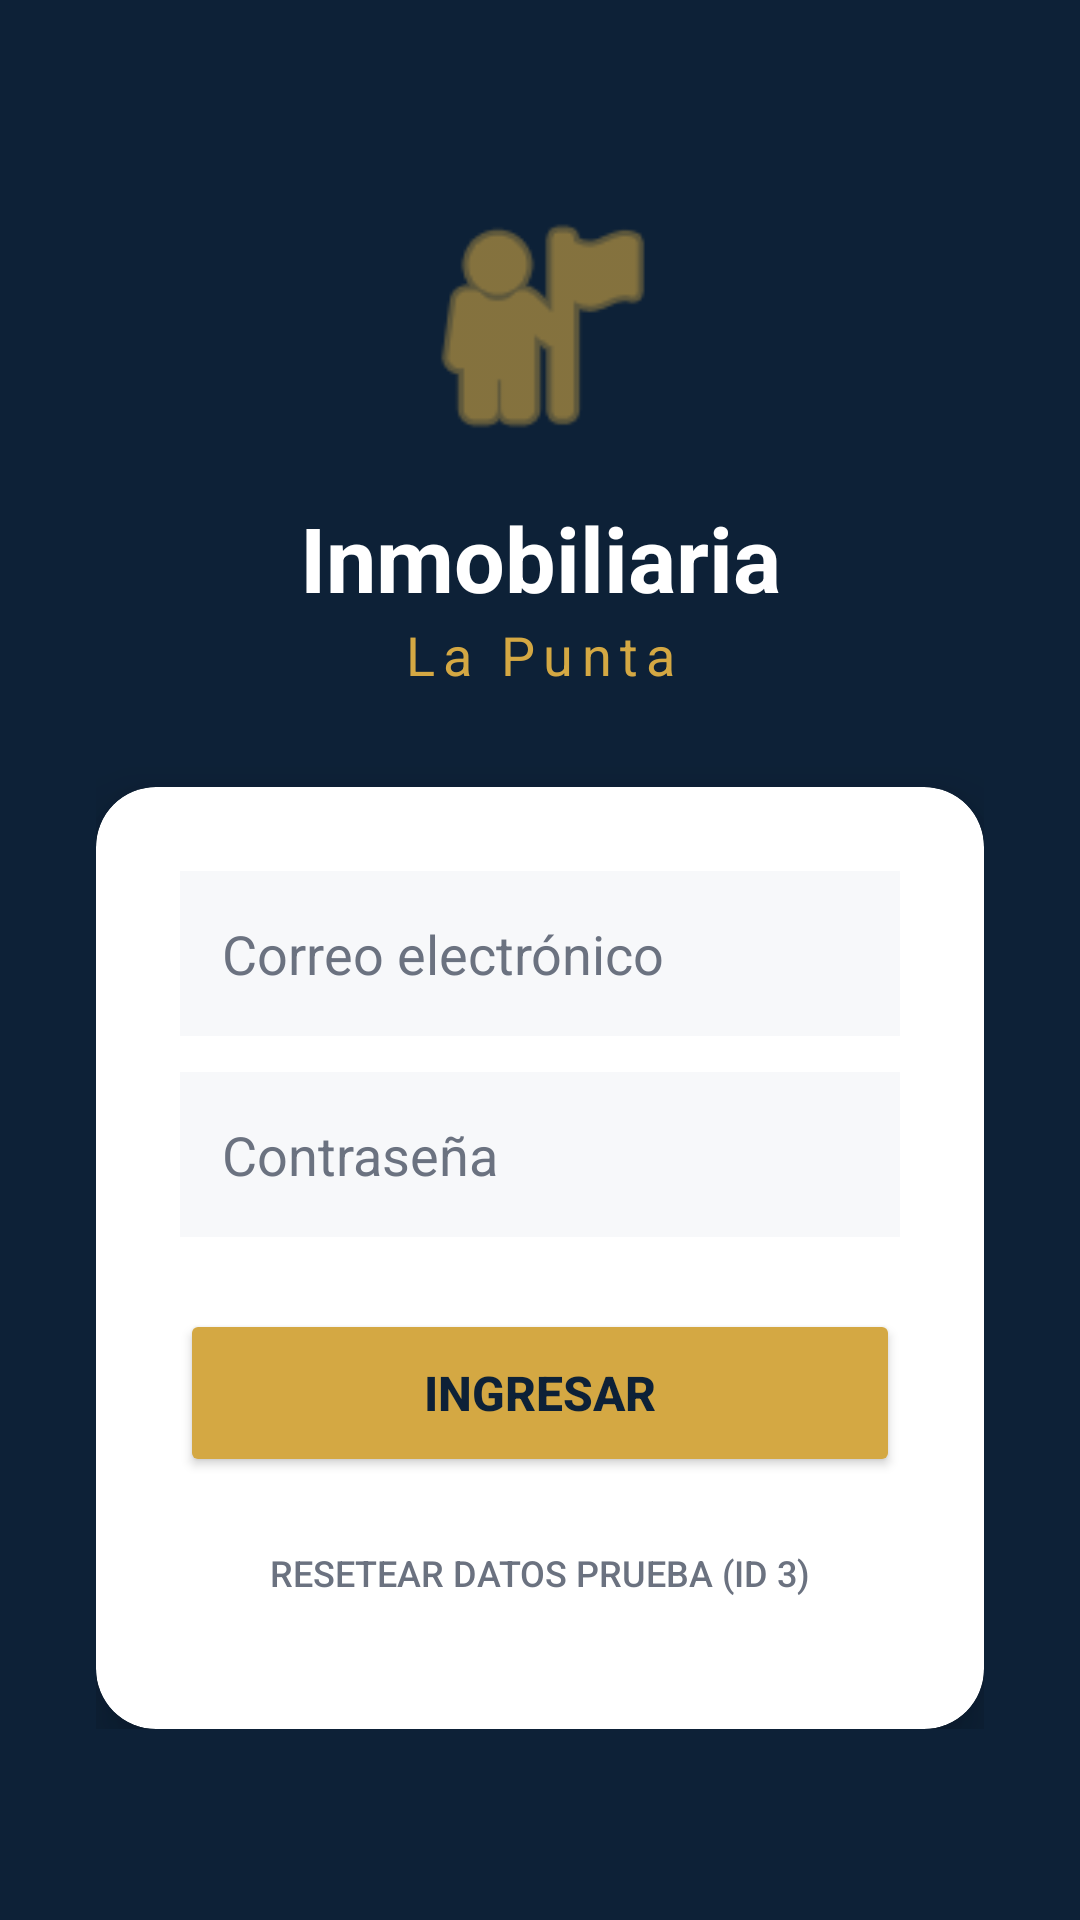

Icons on this 1080w x 1920h Android screen, each with the point to tap as [x,y]:
myplaces: [542,326]
